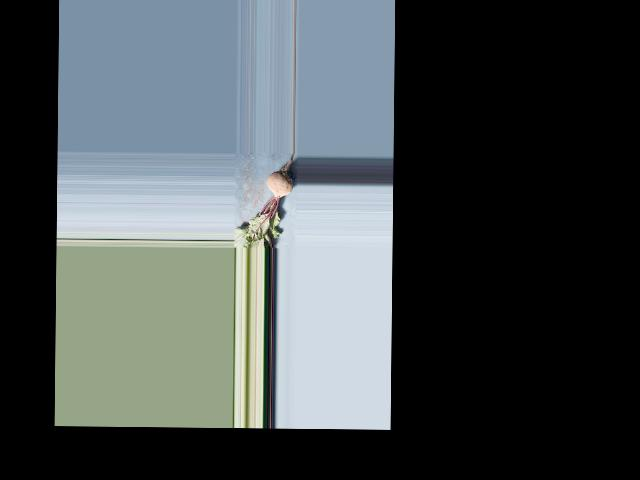beet: (233, 153, 294, 249)
